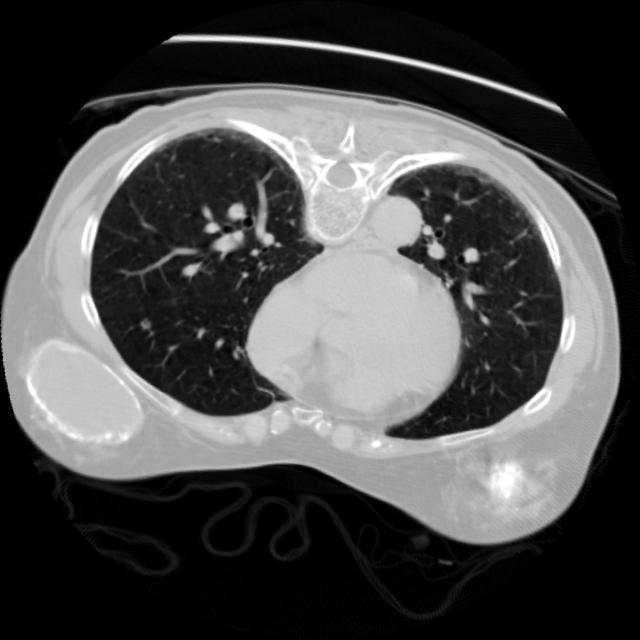nodule: (127, 308, 160, 340)
